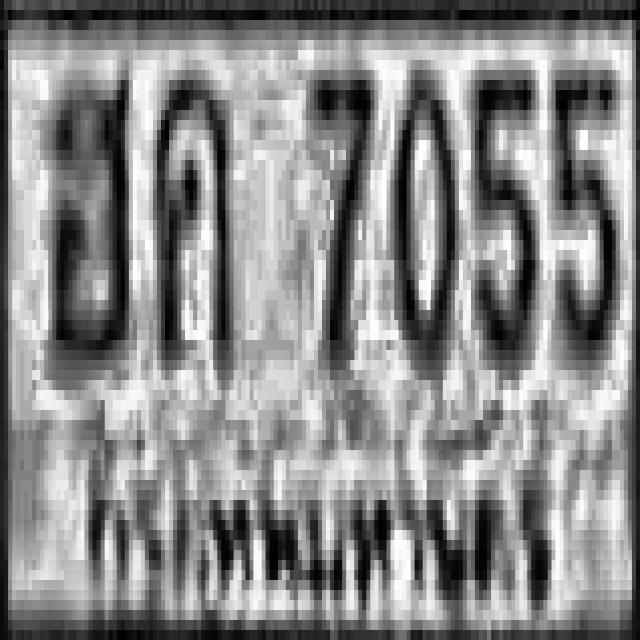license-plate: (8, 20, 632, 640)
